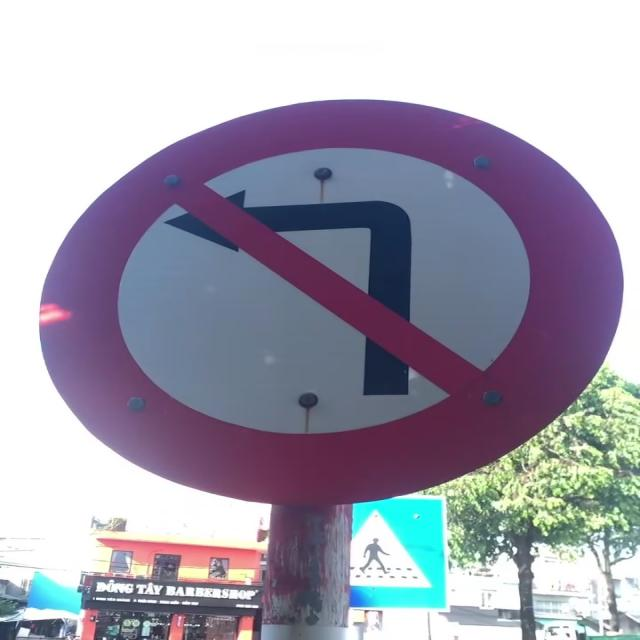Cam_Re_Trai: (53, 96, 618, 512)
